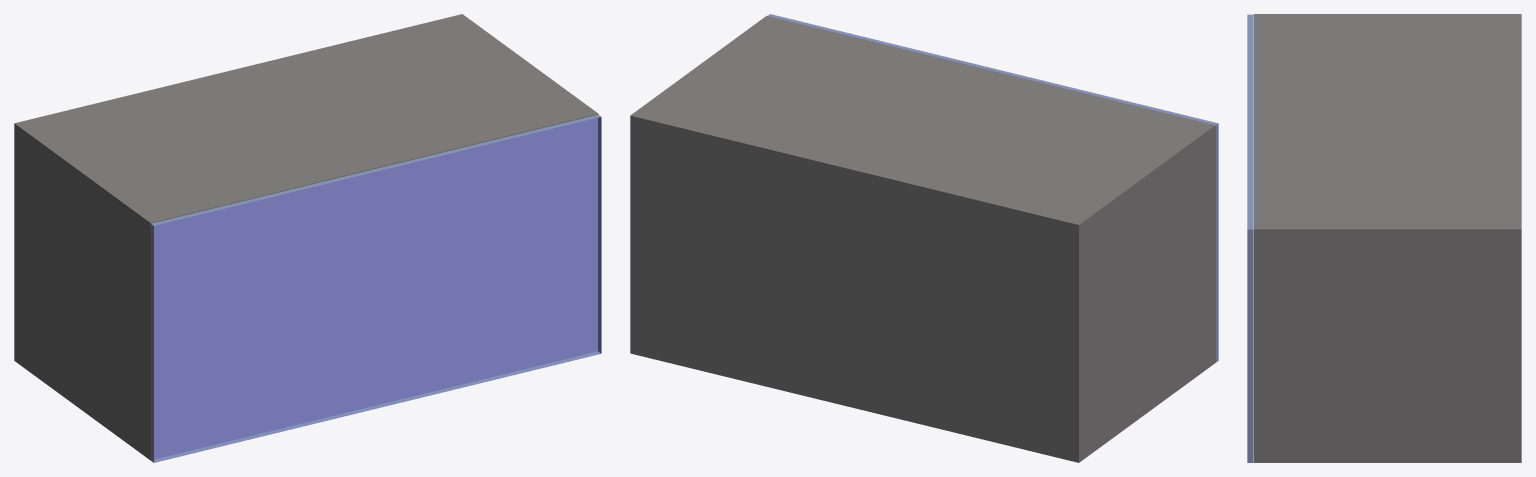
File: oncam.fbx
3 renders of one model, left to right at view 1: azimuth 30°, elevation 25°; view 2: azimuth 150°, elevation 25°; view 3: azimuth 270°, elevation 25°, orthographic.
Visible parts, largest first — view 1: Cabinet1_Door, Cabinet1; view 2: Cabinet1, Cabinet1_Door; view 3: Cabinet1, Cabinet1_Door.
Part boxes in pixels (box(x1,y1,x2,y2)): Cabinet1_Door: box(150, 114, 601, 462); Cabinet1: box(14, 14, 598, 460); Cabinet1: box(630, 16, 1215, 462); Cabinet1_Door: box(768, 14, 1218, 362); Cabinet1: box(1253, 14, 1521, 462); Cabinet1_Door: box(1247, 14, 1253, 462).
Size of the model in its own units: 150 by 76 by 80.9.
